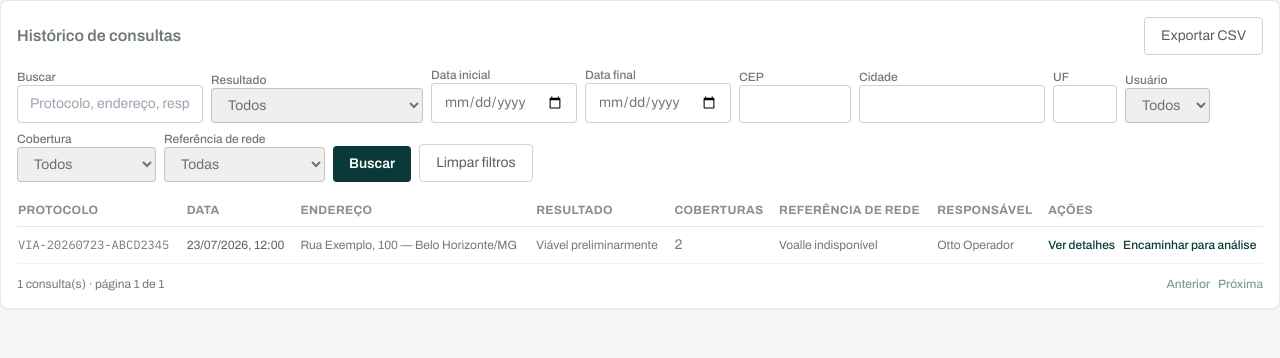
Test: exportação CSV › mostra a mensagem do limite quando CONSULTATION_EXPORT_LIMIT_EXCEEDED
Check: the text "VIA-20260723-ABCD2345" is shown, box [17,226,186,264]
Click the button "Exportar CSV" at (1204, 36), box [1144,17,1263,55]
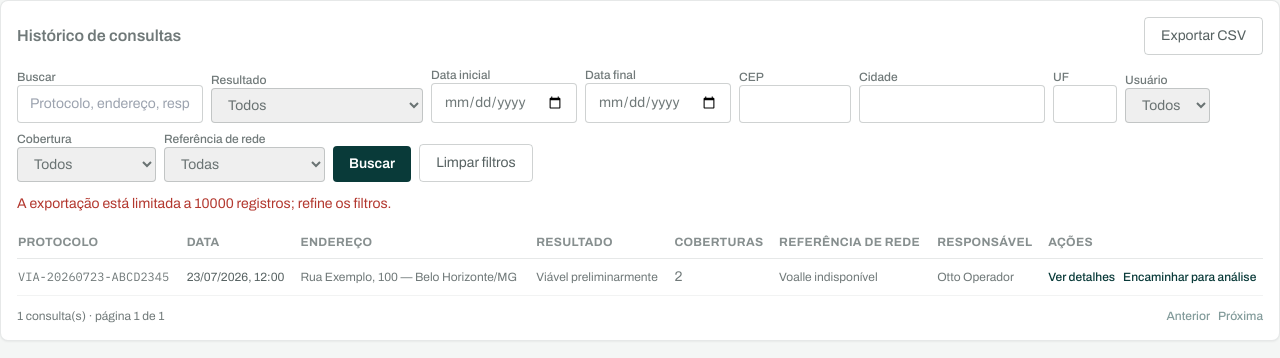
Check: the message shows "limitada a 10000 registros", box [17,196,391,211]
